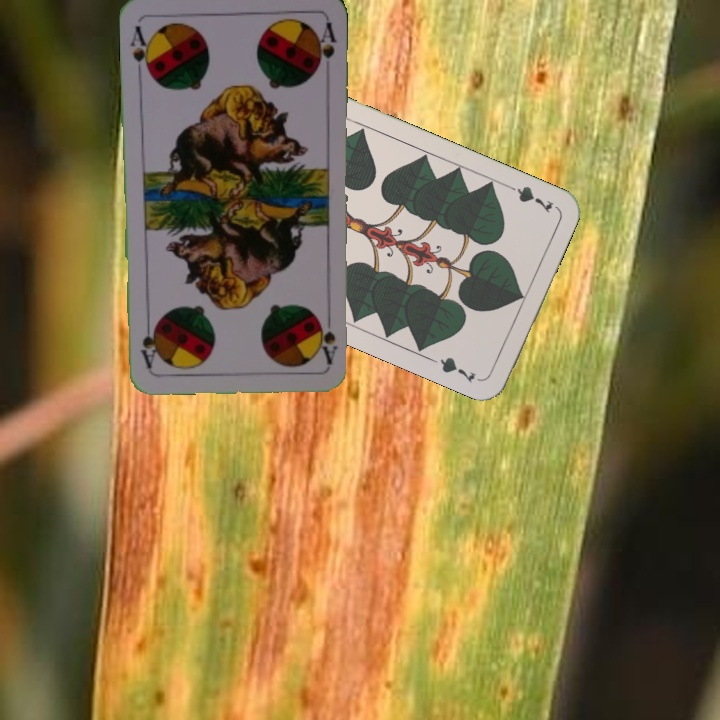G7: (500, 180, 556, 216)
SA: (126, 22, 154, 79), (316, 307, 340, 366)
